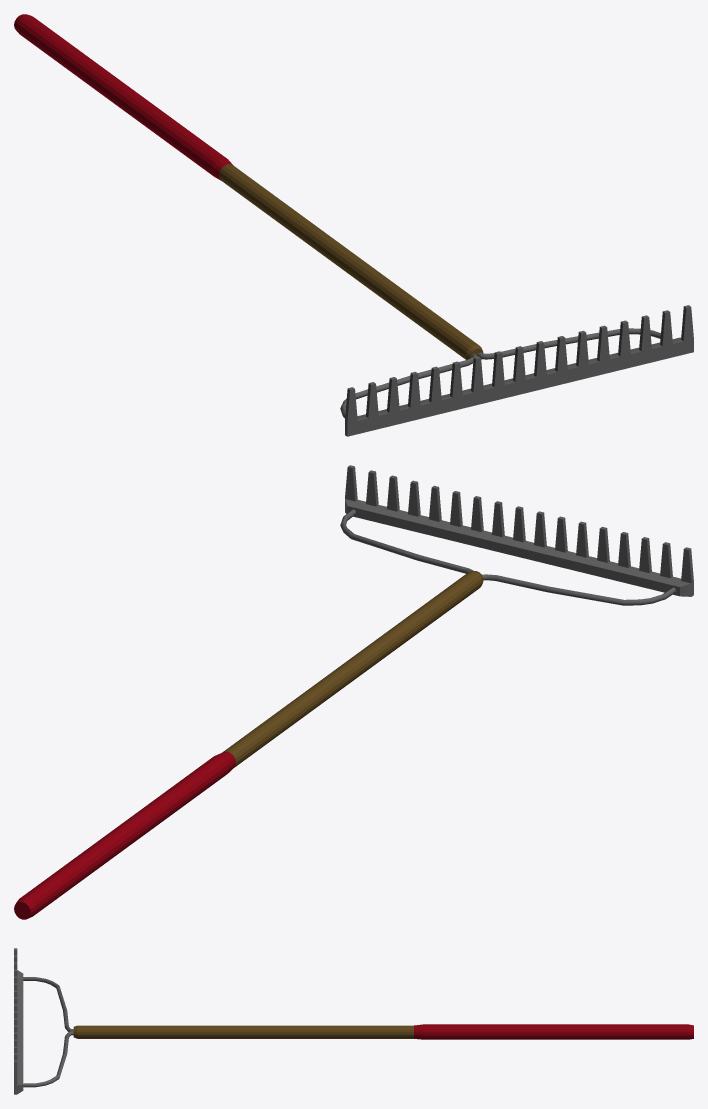
Rendered from SM_Rake.fbx.
The picture shows the model from 3 angles, top to bottom: view 1: azimuth 30°, elevation 25°; view 2: azimuth 150°, elevation 25°; view 3: azimuth 270°, elevation 25°; orthographic projection. The views are drawn at different scales.
Parts seen in each view (by area): view 1: Rake; view 2: Rake; view 3: Rake.
Part boxes in pixels (x1,y1,x2,y2): Rake: [14, 14, 693, 436]; Rake: [14, 465, 693, 919]; Rake: [14, 948, 693, 1094].
Bounding box in the file's own units: 210 × 28.45 × 522.
